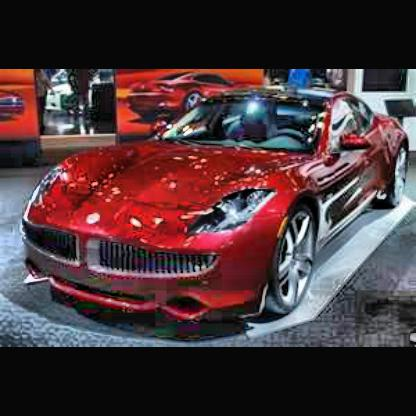Fisker Karma Sedan 2012: (19, 83, 414, 338)
